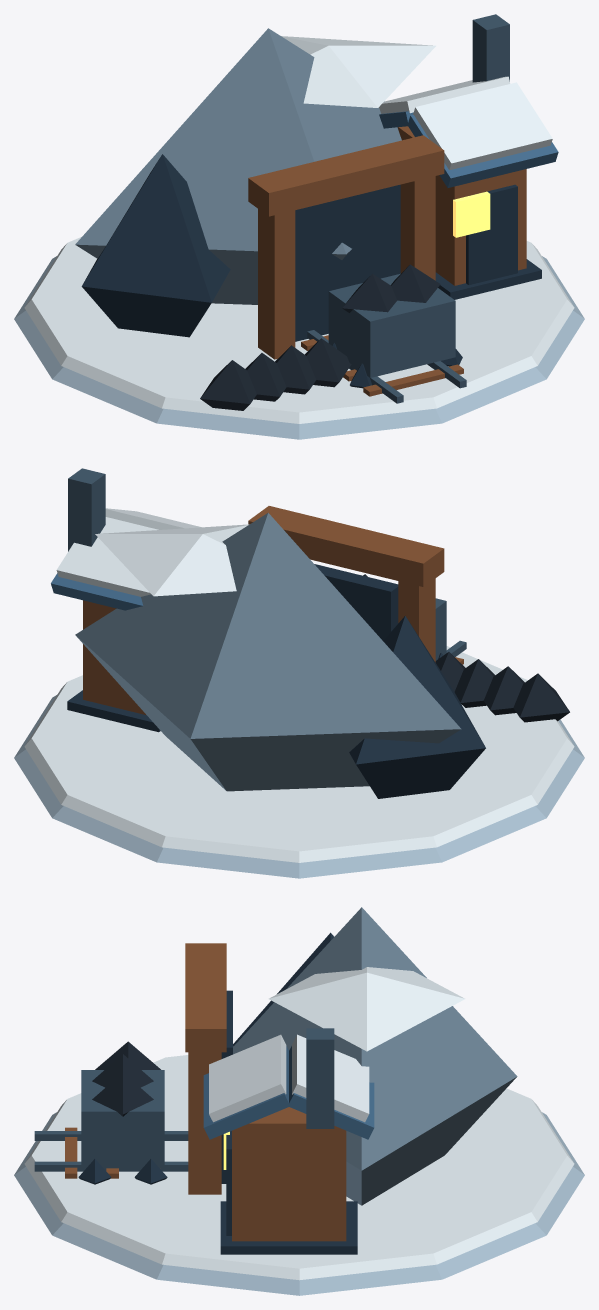
Rendered from res_coal.glb.
The picture shows the model from 3 angles, top to bottom: view 1: azimuth 30°, elevation 25°; view 2: azimuth 150°, elevation 25°; view 3: azimuth 270°, elevation 25°; orthographic projection.
Visible parts, largest first — view 1: resource_coal; view 2: resource_coal; view 3: resource_coal.
Boxes of the visible parts, x1,y1,x2,y2 form: resource_coal: (14,14,584,439); resource_coal: (14,468,584,878); resource_coal: (14,907,584,1295).
Bounding box in the file's own units: 5.5 × 3.6 × 5.5.
